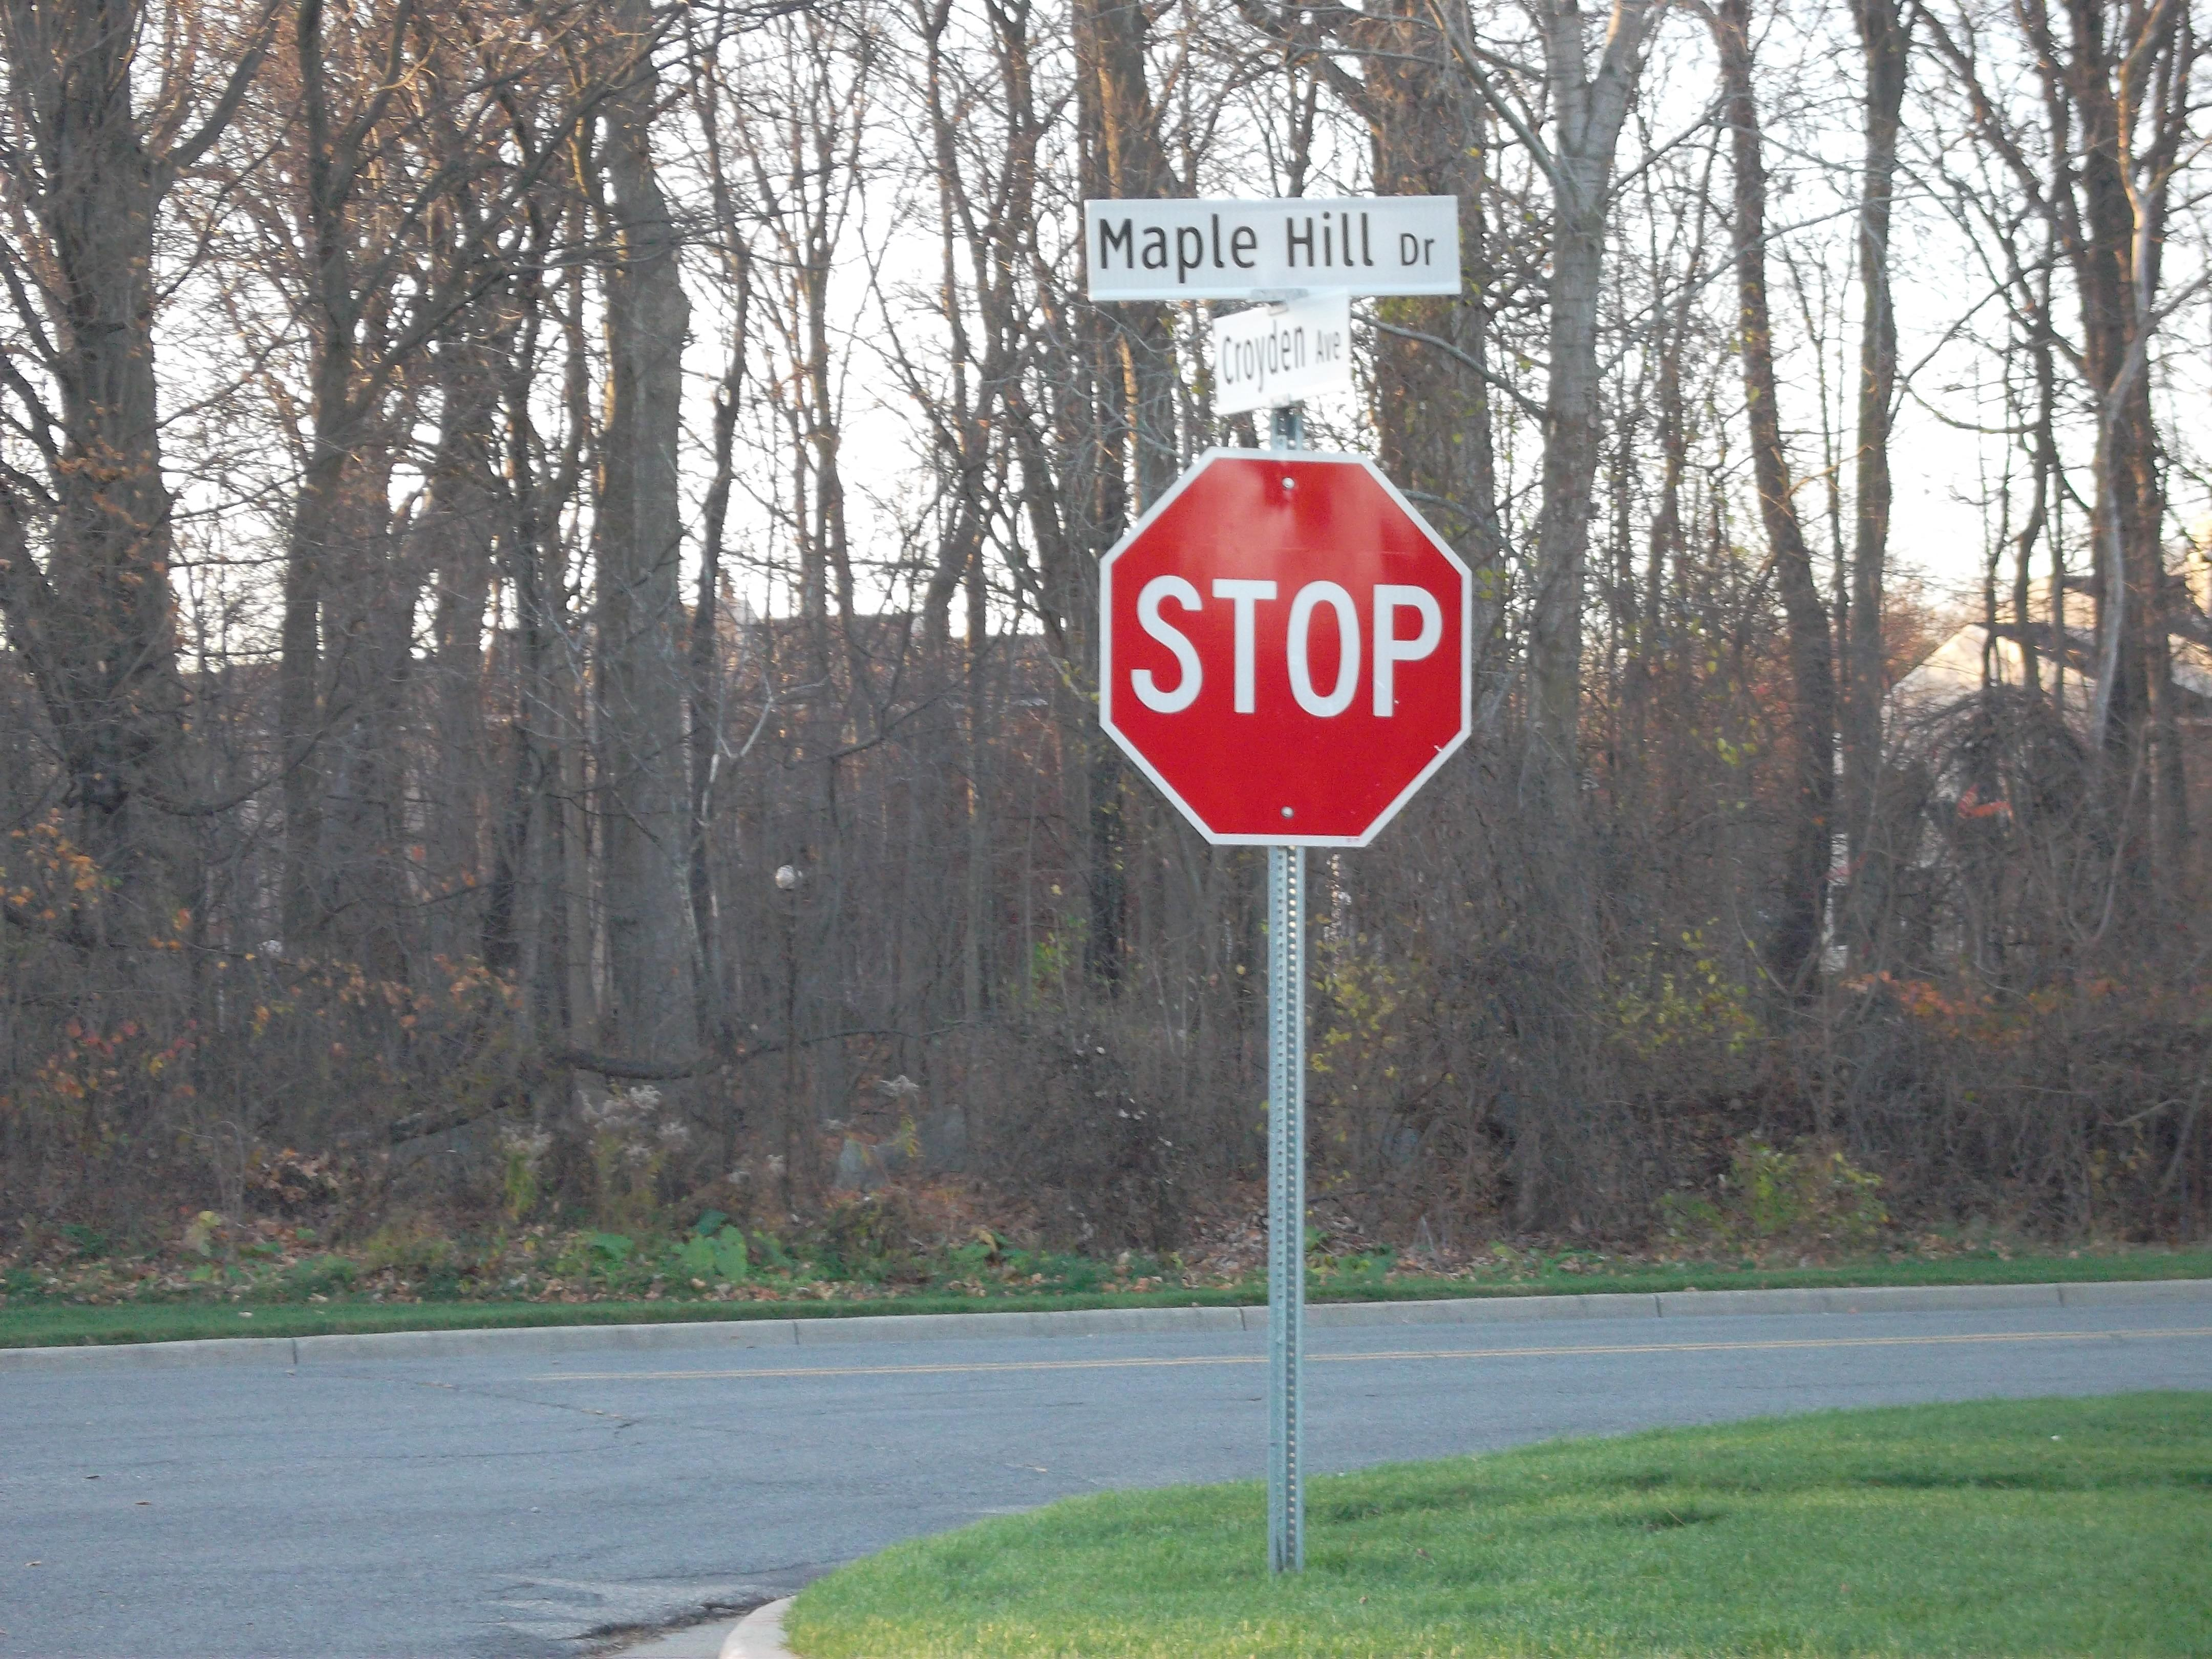stop: (1087, 432, 1487, 868)
